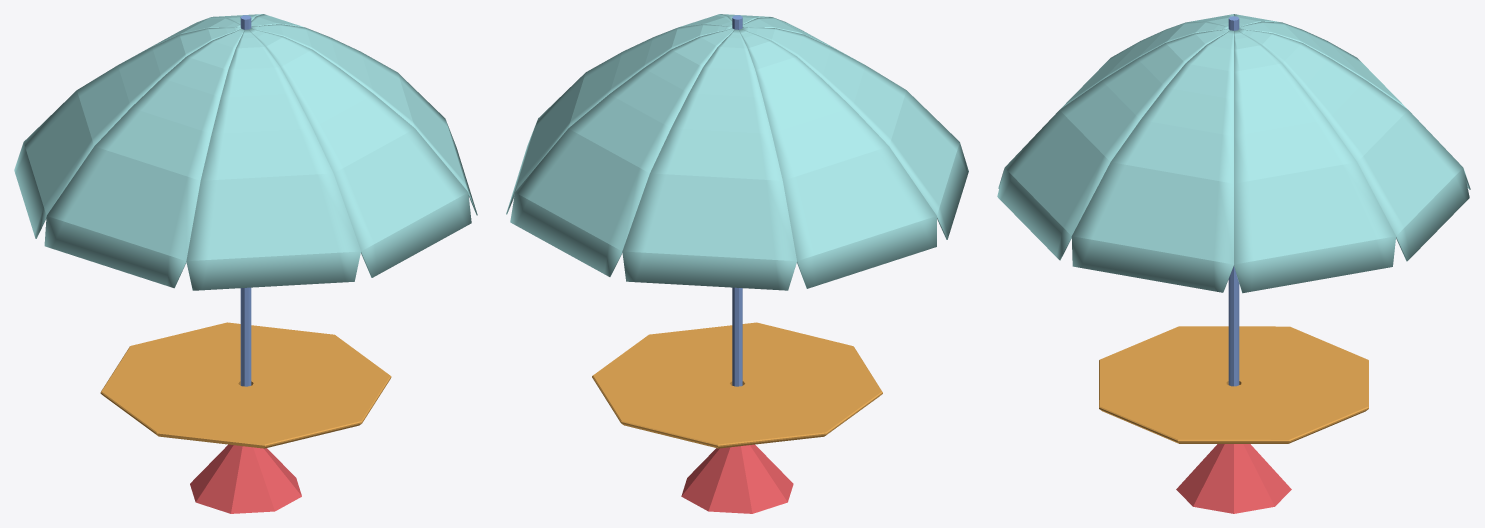
File: Umbrella_Table.fbx
3 views of the same model, side by side, from view 1: azimuth 30°, elevation 25°; view 2: azimuth 150°, elevation 25°; view 3: azimuth 270°, elevation 25° (orthographic).
Parts seen in each view (by area): view 1: Umbrella, TablePlate, table Stand, Pole; view 2: Umbrella, TablePlate, table Stand, Pole; view 3: Umbrella, TablePlate, table Stand, Pole.
Part boxes in pixels (bbox=[...]): Umbrella: bbox=[14, 14, 477, 290]; TablePlate: bbox=[100, 322, 391, 448]; table Stand: bbox=[190, 444, 301, 513]; Pole: bbox=[240, 15, 251, 386]; Umbrella: bbox=[506, 14, 968, 290]; TablePlate: bbox=[592, 322, 882, 448]; table Stand: bbox=[681, 444, 793, 513]; Pole: bbox=[732, 15, 742, 386]; Umbrella: bbox=[997, 14, 1470, 293]; TablePlate: bbox=[1099, 326, 1368, 443]; table Stand: bbox=[1176, 444, 1291, 513]; Pole: bbox=[1228, 16, 1239, 386].
Size of the model in its own units: 385 by 423 by 385.
